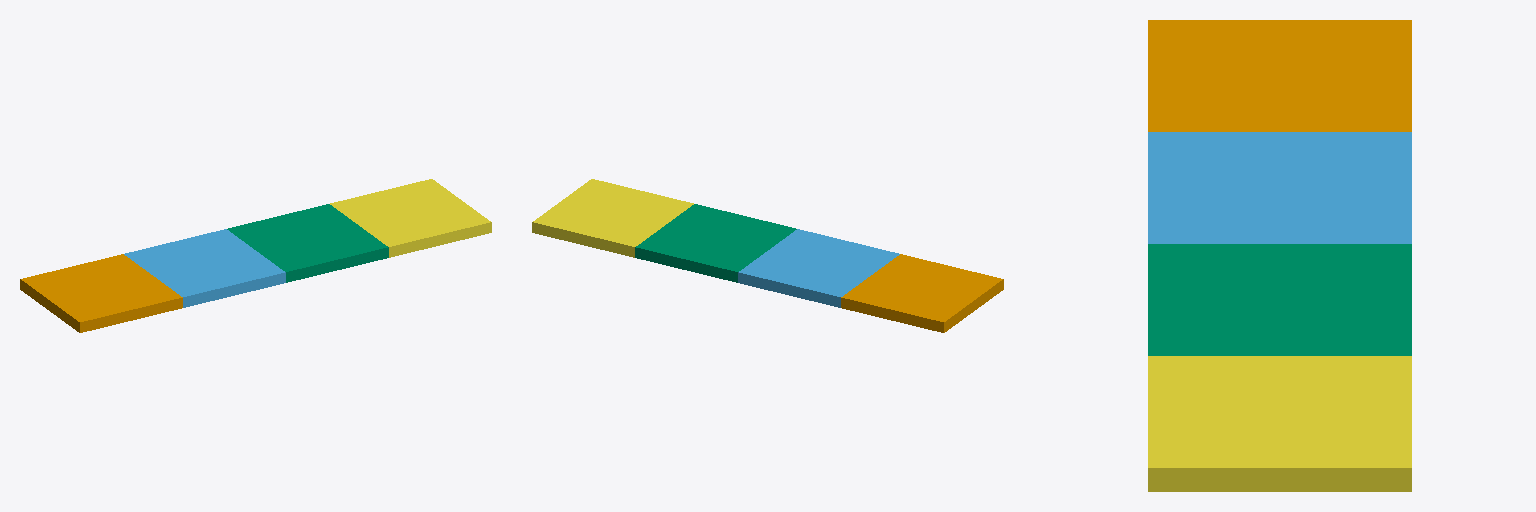
robot.urdf — closed_chain:
<?xml version="1.0" ?>

<robot name="closed_chain">

  <link name="right_pad1">
    <inertial>
      <mass value="1.41502697"/>
      <origin rpy="0 0 0" xyz="0.00008301 0.00000908 0.03819562"/>
      <inertia ixx="0.00248548" ixy="-0.00000074" ixz="0.000003761" iyy="0.00121388" iyz="-0.00000042" izz="0.00287756"/>
    </inertial>
    <collision name="right_pad1_collision">
      <origin rpy="0  0  0" xyz="0.5  0   0"/>
      <geometry>
        <box size="1.0 1.0 0.1"/>
      </geometry>
    </collision>
    <visual name="right_pad1_visual">
      <origin rpy="0  0  0" xyz="0.5  0   0"/>
      <geometry>
        <box size="1.0 1.0 0.1"/>
      </geometry>
    </visual>
  </link>

  <link name="right_pad2">
    <inertial>
      <mass value="1.41502697"/>
      <origin rpy="0 0 0" xyz="0.00008301 0.00000908 0.03819562"/>
      <inertia ixx="0.00248548" ixy="-0.00000074" ixz="0.000003761" iyy="0.00121388" iyz="-0.00000042" izz="0.00287756"/>
    </inertial>
    <collision name="right_pad2_collision">
      <origin rpy="0  0  0" xyz="0.5  0   0"/>
      <geometry>
        <box size="1.0 1.0 0.1"/>
      </geometry>
    </collision>
    <visual name="right_pad2_visual">
      <origin rpy="0  0  0" xyz="0.5  0   0"/>
      <geometry>
        <box size="1.0 1.0 0.1"/>
      </geometry>
    </visual>
  </link>

  <link name="right_pad3">
    <inertial>
      <mass value="1.41502697"/>
      <origin rpy="0 0 0" xyz="0.00008301 0.00000908 0.03819562"/>
      <inertia ixx="0.00248548" ixy="-0.00000074" ixz="0.000003761" iyy="0.00121388" iyz="-0.00000042" izz="0.00287756"/>
    </inertial>
    <collision name="right_pad3_collision">
      <origin rpy="0  0  0" xyz="0.5  0   0"/>
      <geometry>
        <box size="1.0 1.0 0.1"/>
      </geometry>
    </collision>
    <visual name="right_pad3_visual">
      <origin rpy="0  0  0" xyz="0.5  0   0"/>
      <geometry>
        <box size="1.0 1.0 0.1"/>
      </geometry>
    </visual>
  </link>

  <link name="right_pad4">
    <inertial>
      <mass value="1.41502697"/>
      <origin rpy="0 0 0" xyz="0.00008301 0.00000908 0.03819562"/>
      <inertia ixx="0.00248548" ixy="-0.00000074" ixz="0.000003761" iyy="0.00121388" iyz="-0.00000042" izz="0.00287756"/>
    </inertial>
    <collision name="right_pad4_collision">
      <origin rpy="0  0  0" xyz="0.5  0   0"/>
      <geometry>
        <box size="1.0 1.0 0.1"/>
      </geometry>
    </collision>
    <visual name="right_pad4_visual">
      <origin rpy="0  0  0" xyz="0.5  0   0"/>
      <geometry>
        <box size="1.0 1.0 0.1"/>
      </geometry>
    </visual>
  </link>

  <joint name="right_pad_joint1" type="revolute">
    <parent link="right_pad1"/>
    <child link="right_pad2"/>
    <origin rpy="0  0  0" xyz="1  0  0"/>
    <axis xyz="0  1  0"/>
    <limit effort="100" lower="-3.14" upper="3.14" velocity="10."/>
  </joint>

  <joint name="right_pad_joint2" type="revolute">
    <parent link="right_pad2"/>
    <child link="right_pad3"/>
    <origin rpy="0  0  0" xyz="1  0  0"/>
    <axis xyz="0  1  0"/>
    <limit effort="100" lower="-3.14" upper="3.14" velocity="10."/>
  </joint>

  <joint name="right_pad_joint3" type="revolute">
    <parent link="right_pad3"/>
    <child link="right_pad4"/>
    <origin rpy="0  0  0" xyz="1  0  0"/>
    <axis xyz="0  1  0"/>
    <limit effort="100" lower="-3.14" upper="3.14" velocity="10."/>
  </joint>

  <transmission name="right_pad_joint1_trans">
    <type>transmission_interface/SimpleTransmission</type>
    <joint name="right_pad_joint1">
      <hardwareInterface>hardware_interface/EffortJointInterface</hardwareInterface>
    </joint>
    <actuator name="right_pad_joint1_motor">
      <hardwareInterface>hardware_interface/EffortJointInterface</hardwareInterface>
      <mechanicalReduction>1</mechanicalReduction>
    </actuator>
  </transmission>

  <gazebo>
    <plugin filename="libgazebo_ros_control.so" name="gazebo_ros_control">
      <robotNamespace>/closed_chain</robotNamespace>
    </plugin>
  </gazebo>
</robot>

--- Facts derived from the render (not from the file) ---
Views: 3 orthographic renders of the robot side by side, from view 1: azimuth 30°, elevation 25°; view 2: azimuth 150°, elevation 25°; view 3: azimuth 270°, elevation 25°.
Model closed_chain with 4 links and 3 joints (3 revolute), rooted at right_pad1, posed every joint at zero.
Links seen in each view (by area): view 1: right_pad1, right_pad2, right_pad4, right_pad3; view 2: right_pad1, right_pad2, right_pad4, right_pad3; view 3: right_pad4, right_pad1, right_pad2, right_pad3.
Link boxes in pixels (x1,y1,x2,y2): right_pad1: (20,254,182,332); right_pad2: (124,229,285,307); right_pad4: (330,179,491,257); right_pad3: (227,204,388,282); right_pad1: (841,254,1003,332); right_pad2: (738,229,899,307); right_pad4: (532,179,693,257); right_pad3: (635,204,796,282); right_pad4: (1148,356,1411,491); right_pad1: (1148,20,1411,131); right_pad2: (1148,132,1411,243); right_pad3: (1148,244,1411,355).
Size in the robot's own frame: 4 by 1 by 0.1 metres.
Geometry: primitives only (box / cylinder / sphere), no mesh files.